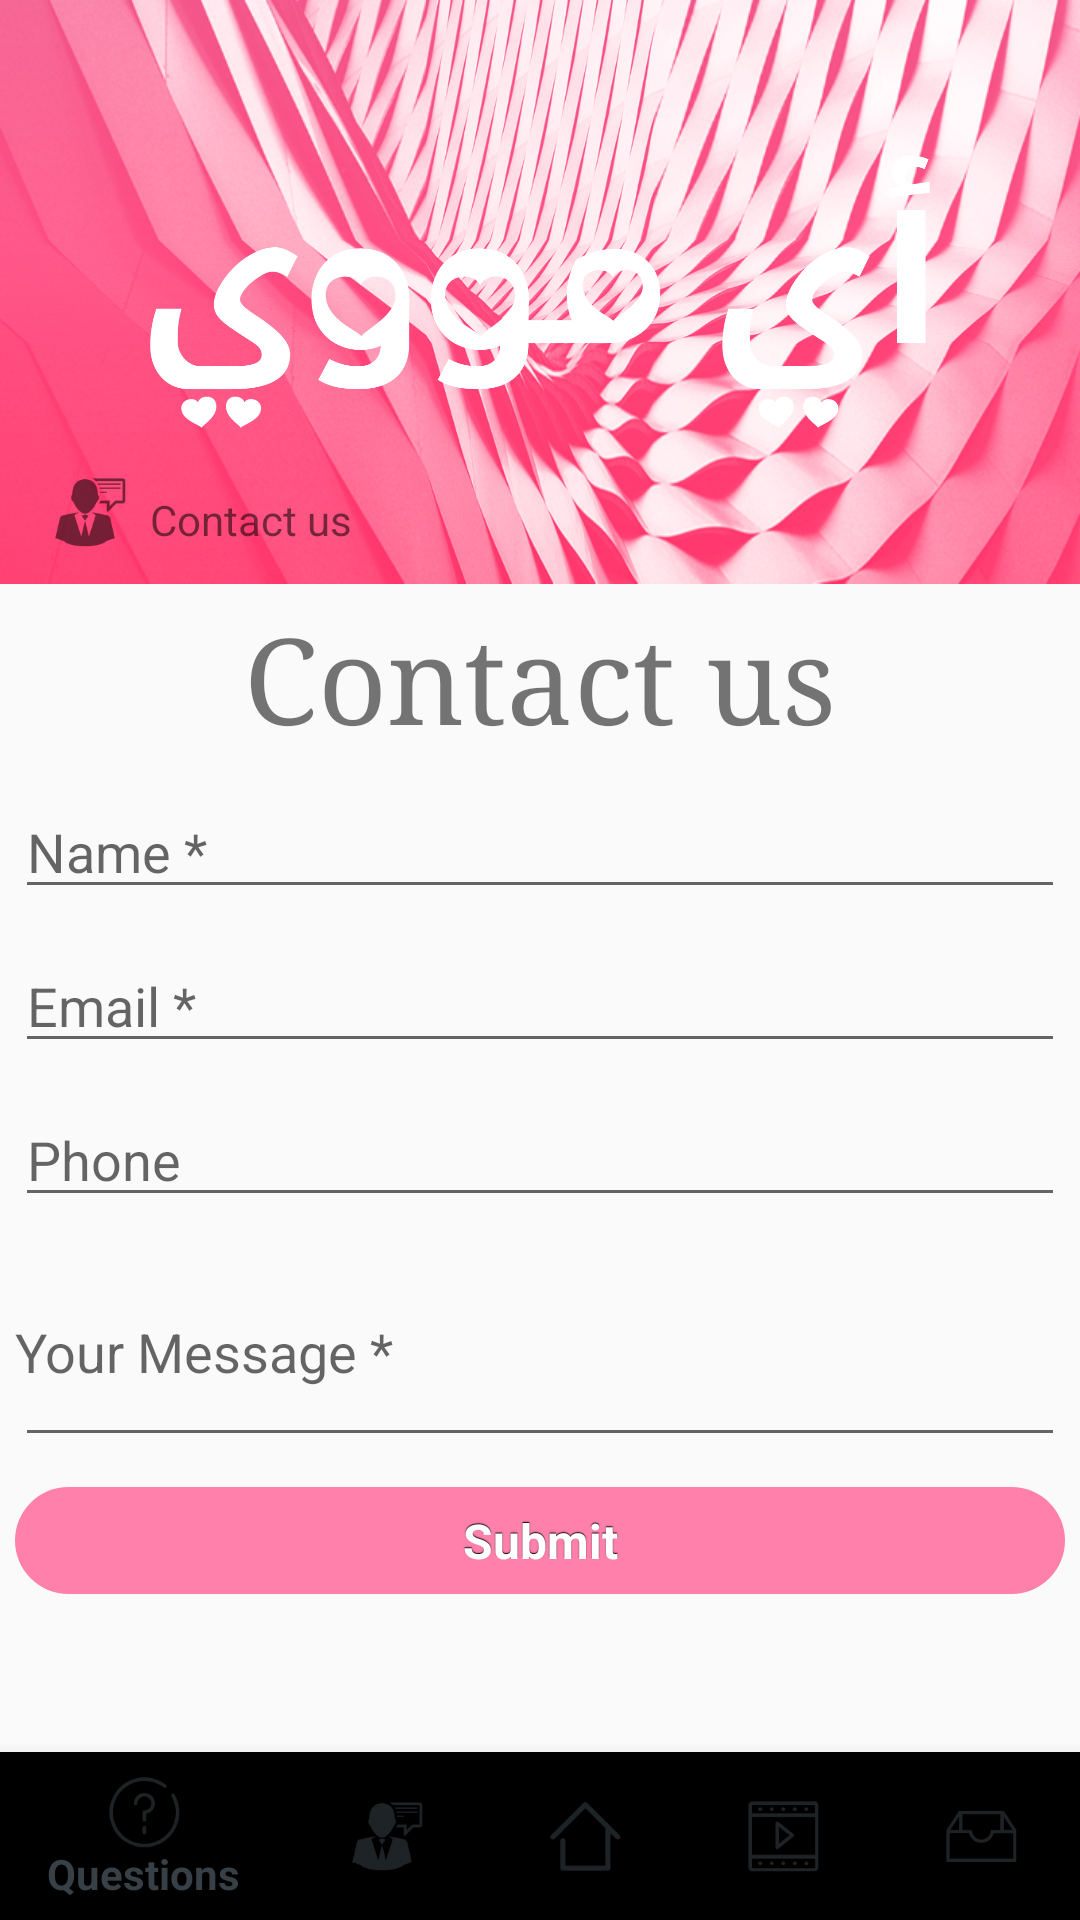

Where to tap for icons on this 1080x1920 app screen, as [x,y]:
service: [90,512]
